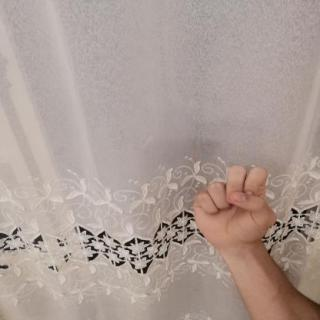QAAF: (181, 160, 287, 255)
